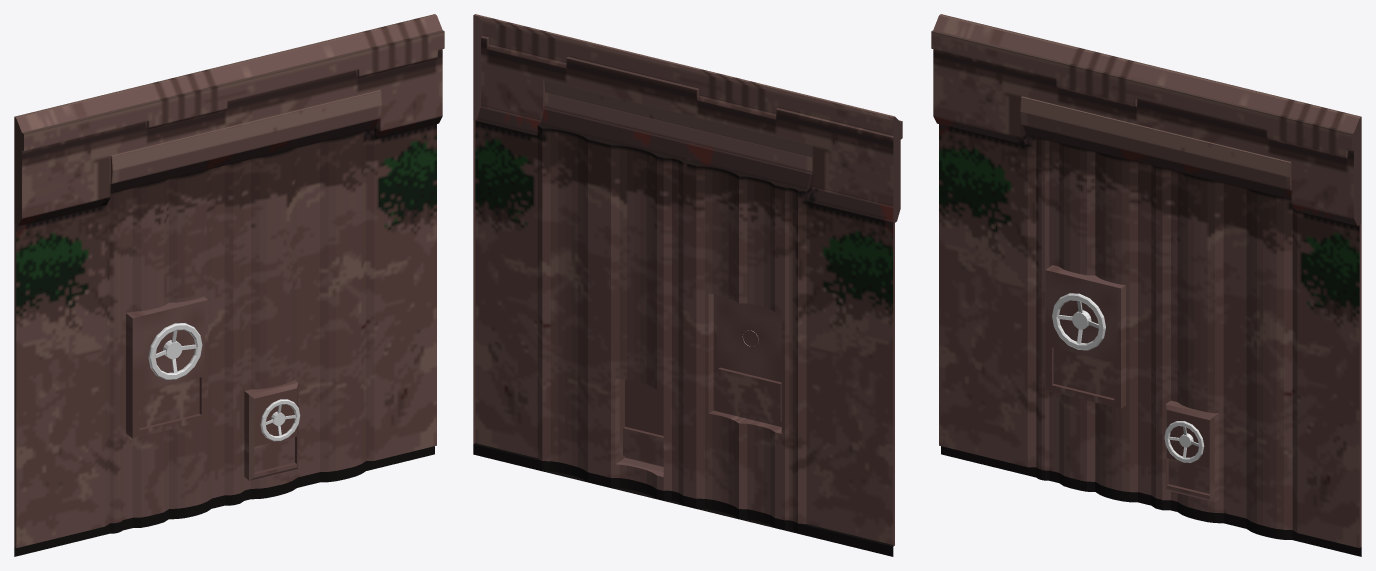
Rendered from grove2_5.fbx.
3 views of the same model, side by side, from view 1: azimuth 30°, elevation 25°; view 2: azimuth 150°, elevation 25°; view 3: azimuth 330°, elevation 25° (orthographic).
Parts seen in each view (by area): view 1: grove2_5_mesh, eng1_2_wheel1_mesh; view 2: grove2_5_mesh; view 3: grove2_5_mesh, eng1_2_wheel1_mesh.
Boxes of the visible parts, left/top/right/bottom form: grove2_5_mesh: left=14, top=14, right=444, bottom=556; eng1_2_wheel1_mesh: left=148, top=323, right=300, bottom=441; grove2_5_mesh: left=473, top=14, right=902, bottom=556; grove2_5_mesh: left=931, top=14, right=1361, bottom=556; eng1_2_wheel1_mesh: left=1052, top=293, right=1204, bottom=462.
Size of the model in its own units: 256 by 256 by 13.2.
